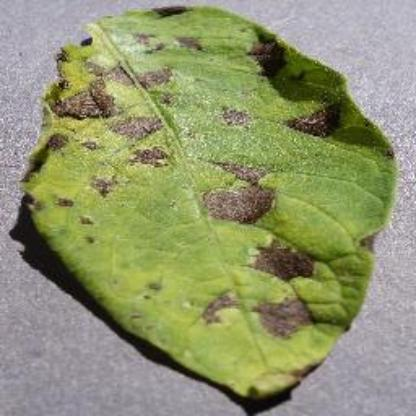Early-Blight: (20, 11, 398, 404)
